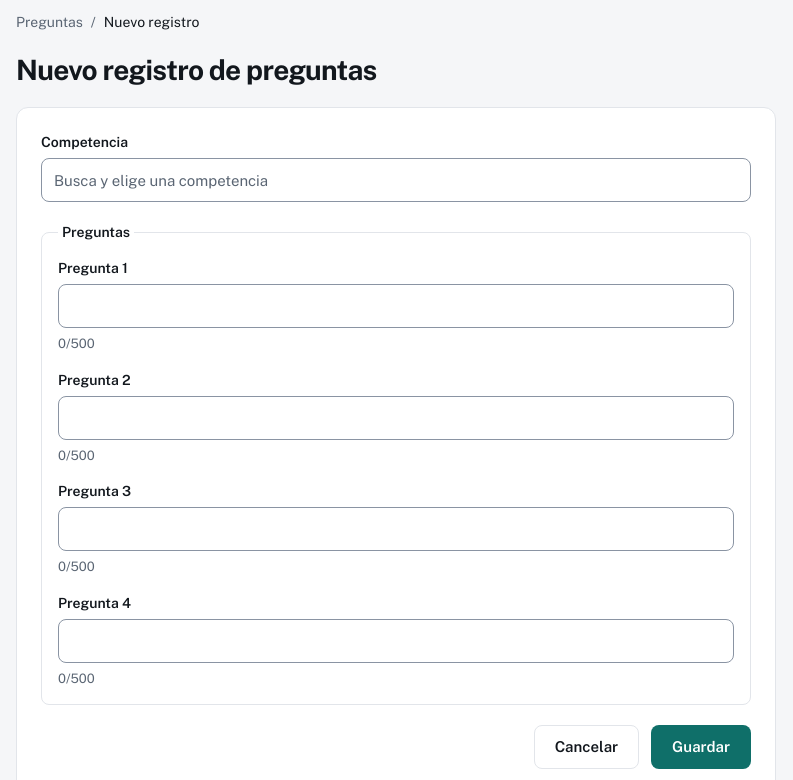
Test: PreguntasFormPage (crear) › el selector solo ofrece las competencias disponibles y permite buscar
Step 1. Click the dropdown labelled "Competencia" → (396, 180), box [41,158,751,202]
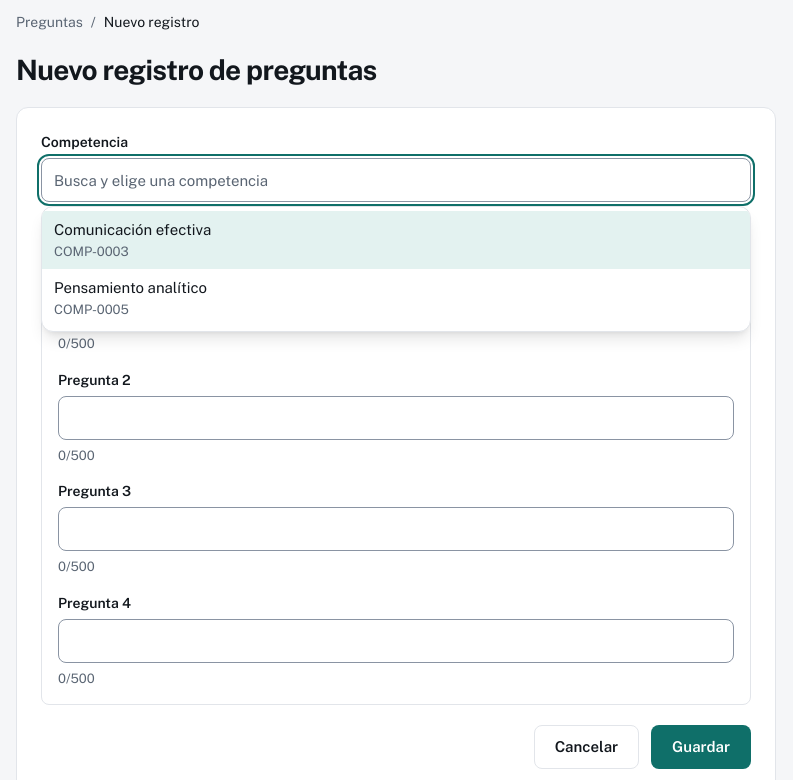
Check: the number of options is 2, box [42,211,750,269]; [54,279,207,316]
Step 2. Type "pensam" into the dropdown → (396, 180), box [41,158,751,202]
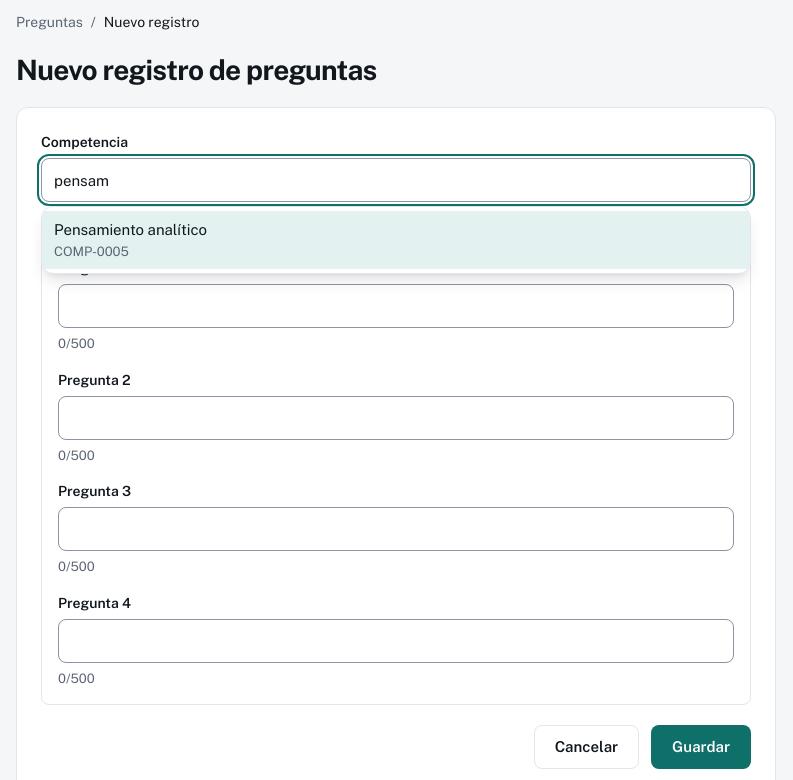
Check: the number of options is 1, box [42,211,750,269]
